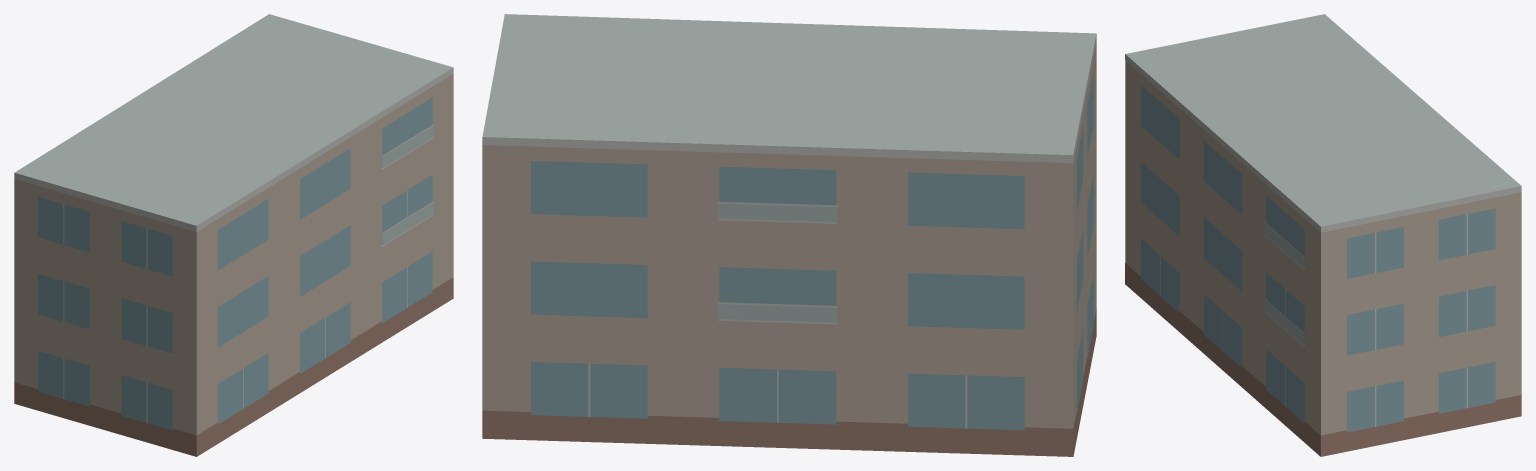
File: survey-upis-32698014.glb
3 renders of one model, left to right at view 1: azimuth 30°, elevation 25°; view 2: azimuth 150°, elevation 25°; view 3: azimuth 270°, elevation 25°, orthographic. The views are drawn at different scales.
Visible parts, largest first — view 1: survey-upis-32698014.tmp; view 2: survey-upis-32698014.tmp; view 3: survey-upis-32698014.tmp.
Part boxes in pixels (<box>): survey-upis-32698014.tmp: <box>14,14,453,456</box>; survey-upis-32698014.tmp: <box>482,14,1096,456</box>; survey-upis-32698014.tmp: <box>1125,14,1521,456</box>.
Bounding box in the file's own units: 18.14 × 9.15 × 14.29.
